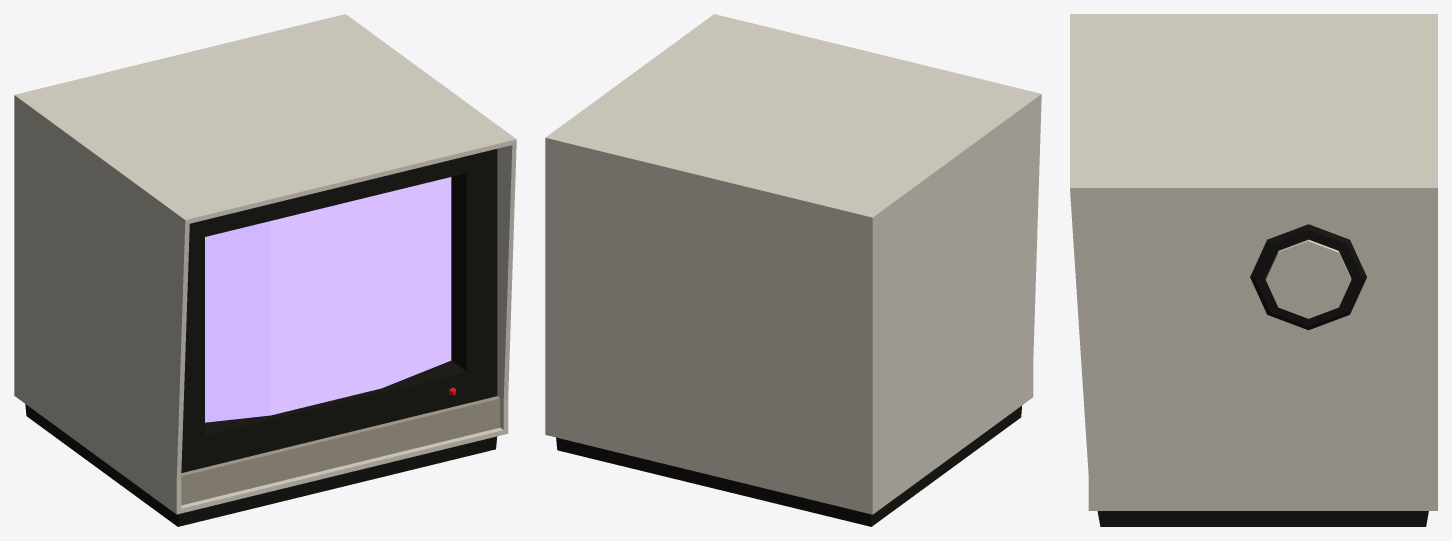
Rendered from Screen.glb.
3 renders of one model, left to right at view 1: azimuth 30°, elevation 25°; view 2: azimuth 150°, elevation 25°; view 3: azimuth 270°, elevation 25°, orthographic. The views are drawn at different scales.
Visible parts, largest first — view 1: Cube.1546; view 2: Cube.1546; view 3: Cube.1546.
Part boxes in pixels (x1,y1,x2,y2): Cube.1546: (14,14,516,526); Cube.1546: (545,14,1041,526); Cube.1546: (1070,14,1437,526).
Bounding box in the file's own units: 0.6687 × 0.6045 × 0.5881.
